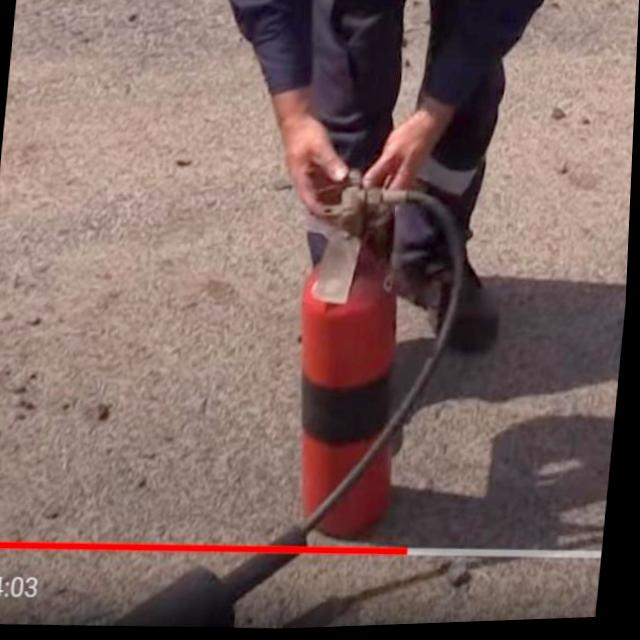FireExtinguisher: (94, 152, 487, 637)
